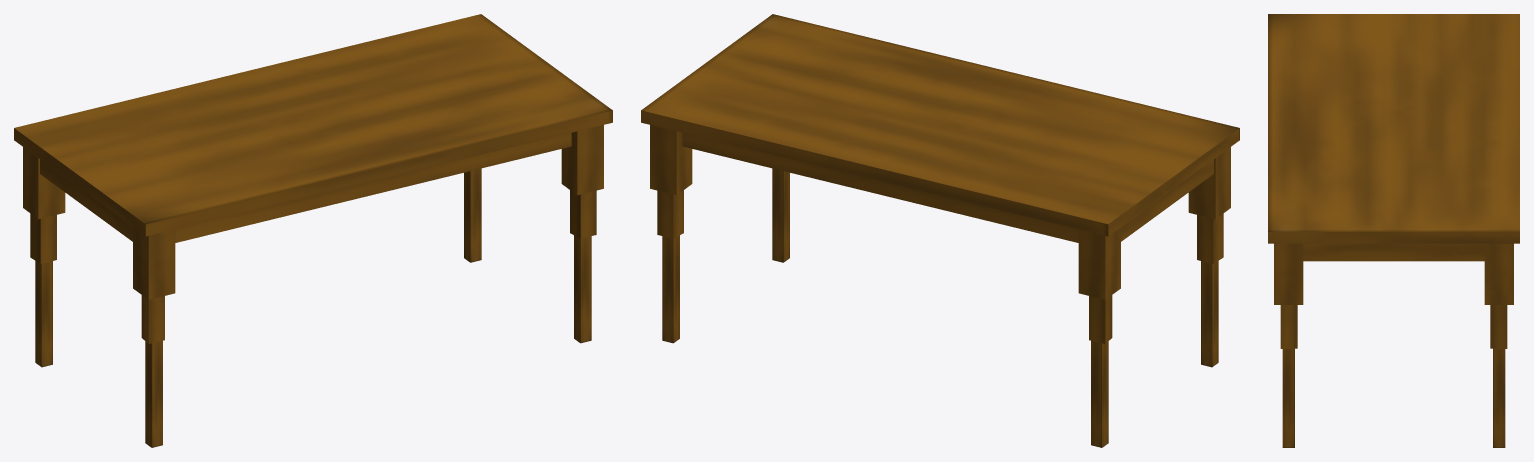
File: RectangleTanTable.fbx
3 views of the same model, side by side, from view 1: azimuth 30°, elevation 25°; view 2: azimuth 150°, elevation 25°; view 3: azimuth 270°, elevation 25° (orthographic). The views are drawn at different scales.
Visible parts, largest first — view 1: Table; view 2: Table; view 3: Table.
Part boxes in pixels (bbox=[...]): Table: bbox=[14, 14, 612, 447]; Table: bbox=[641, 14, 1239, 447]; Table: bbox=[1268, 14, 1519, 447].
Bounding box in the file's own units: 806 × 383 × 394.
Materials: 1 (1 with a texture image).
